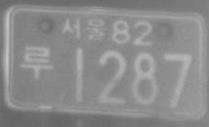1: (64, 46, 93, 103)
2: (95, 48, 129, 107), (131, 18, 153, 47)
7: (161, 50, 194, 108)
8: (129, 50, 160, 107), (110, 18, 132, 45)
루: (19, 44, 54, 80)
서울_O: (60, 16, 108, 42)
